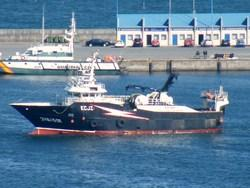otherboat: (6, 63, 231, 141), (1, 21, 130, 76)
